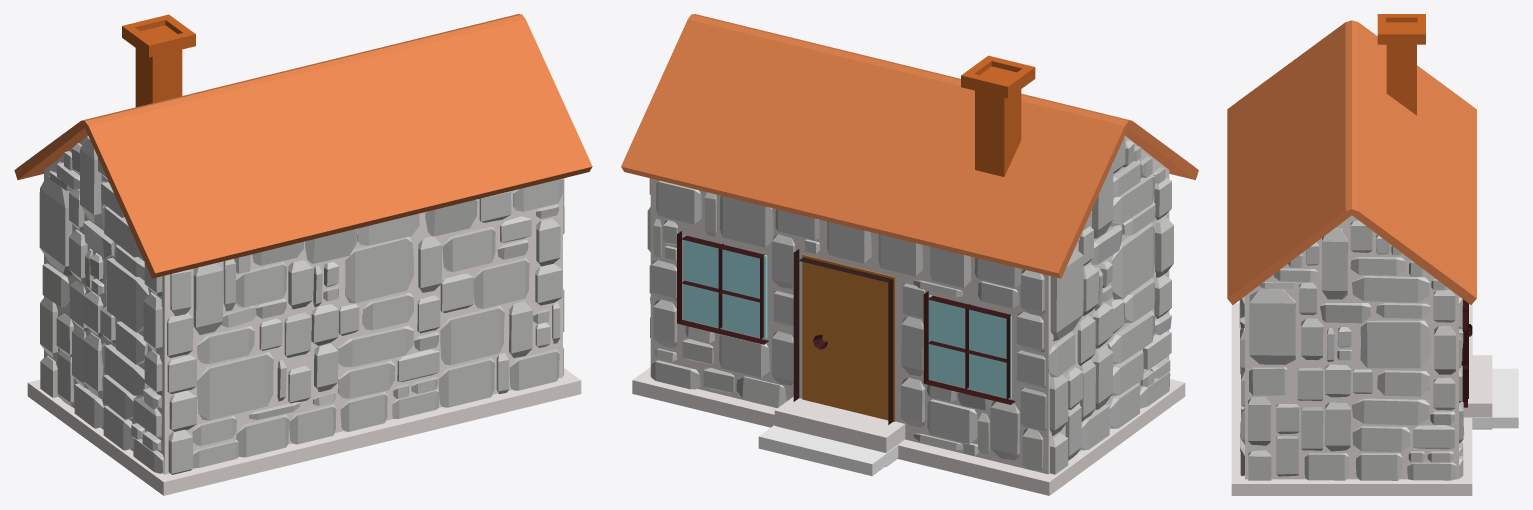
Rendered from house.gltf.
The picture shows the model from 3 angles, left to right: view 1: azimuth 30°, elevation 25°; view 2: azimuth 150°, elevation 25°; view 3: azimuth 270°, elevation 25°; orthographic projection. The views are drawn at different scales.
Visible parts, largest first — view 1: Roof; view 2: Roof; view 3: Roof.
Boxes of the visible parts, x1,y1,x2,y2 form: Roof: [14, 14, 592, 495]; Roof: [621, 14, 1198, 495]; Roof: [1227, 14, 1518, 495].
Size of the model in its own units: 6.69 by 5.46 by 4.36.
